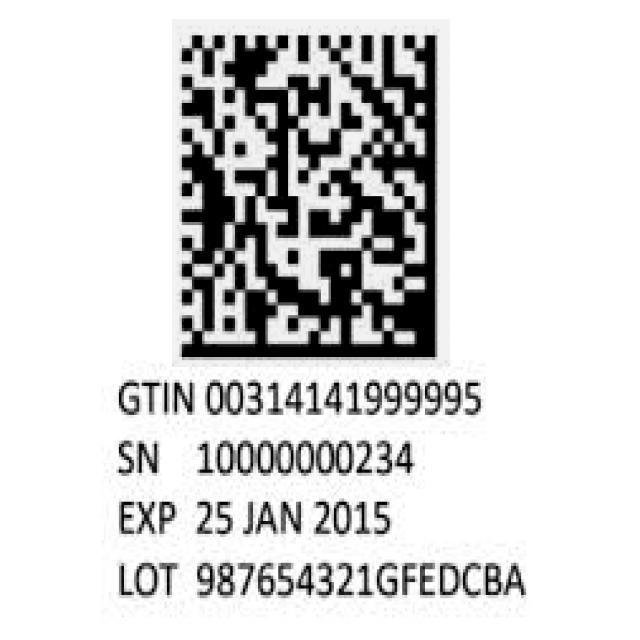Data-Matrix: (172, 19, 450, 367)
